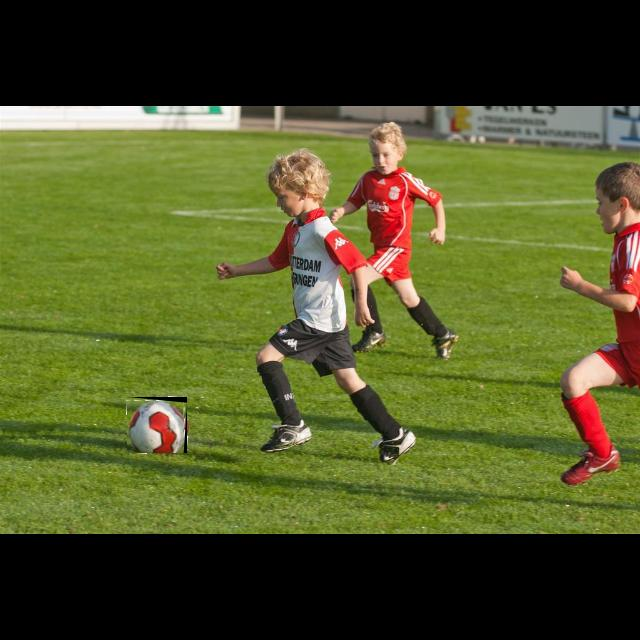Football: (127, 397, 187, 453)
